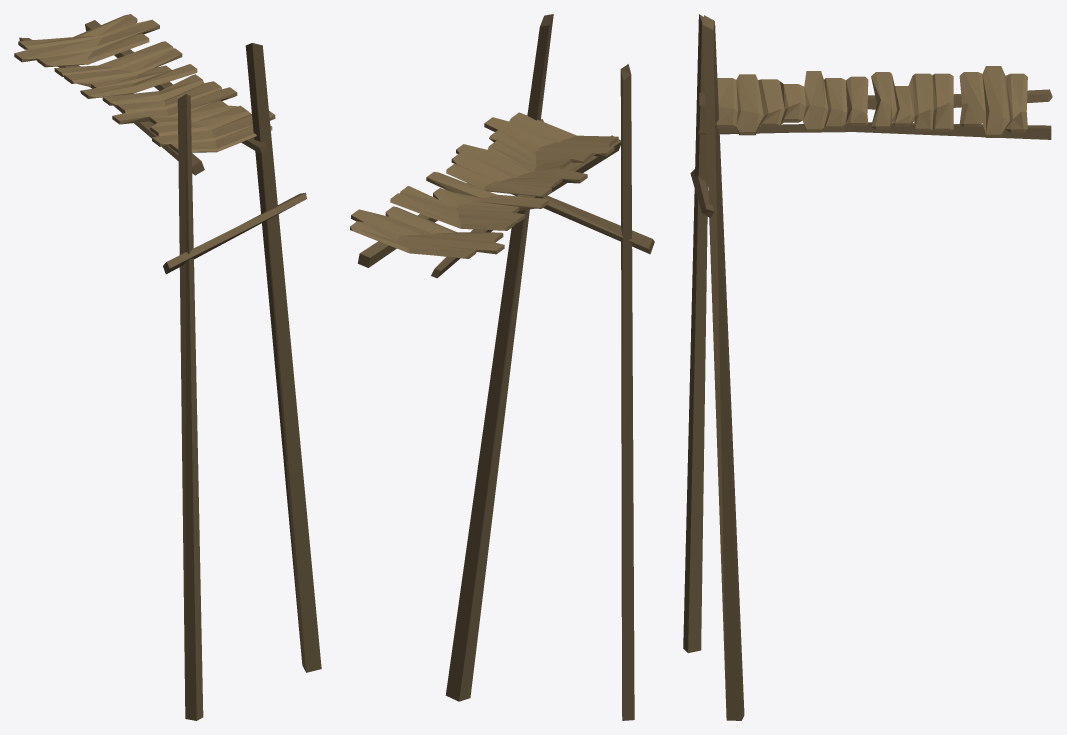
The model's file is SM_Bld_Rickety_Dock_02.glb.
3 views of the same model, side by side, from view 1: azimuth 30°, elevation 25°; view 2: azimuth 150°, elevation 25°; view 3: azimuth 270°, elevation 25° (orthographic). The views are drawn at different scales.
Parts seen in each view (by area): view 1: SM_Bld_Rickety_Dock_02_part00; view 2: SM_Bld_Rickety_Dock_02_part00; view 3: SM_Bld_Rickety_Dock_02_part00.
Boxes of the visible parts, bbox=[...] form: SM_Bld_Rickety_Dock_02_part00: bbox=[14, 14, 321, 720]; SM_Bld_Rickety_Dock_02_part00: bbox=[350, 14, 654, 720]; SM_Bld_Rickety_Dock_02_part00: bbox=[683, 14, 1052, 720].
Bounding box in the file's own units: 2.32 × 8.28 × 4.16.
Materials: 1 (1 with a texture image).
